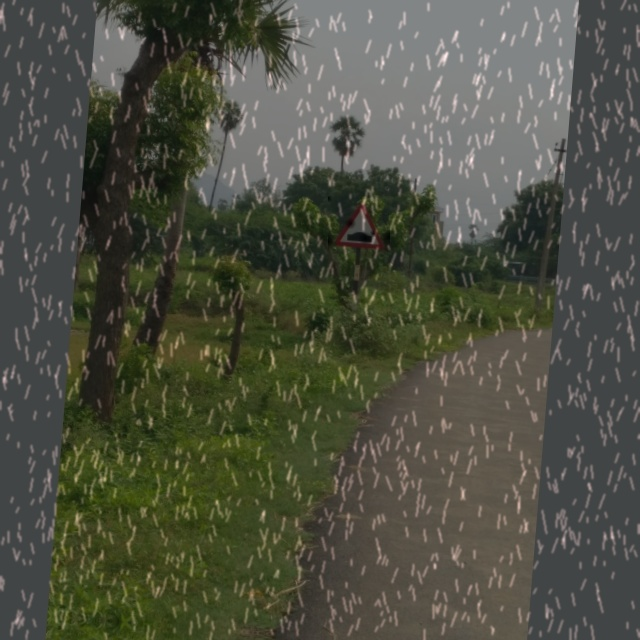Hump_or_Rough_Road: (328, 196, 390, 255)
